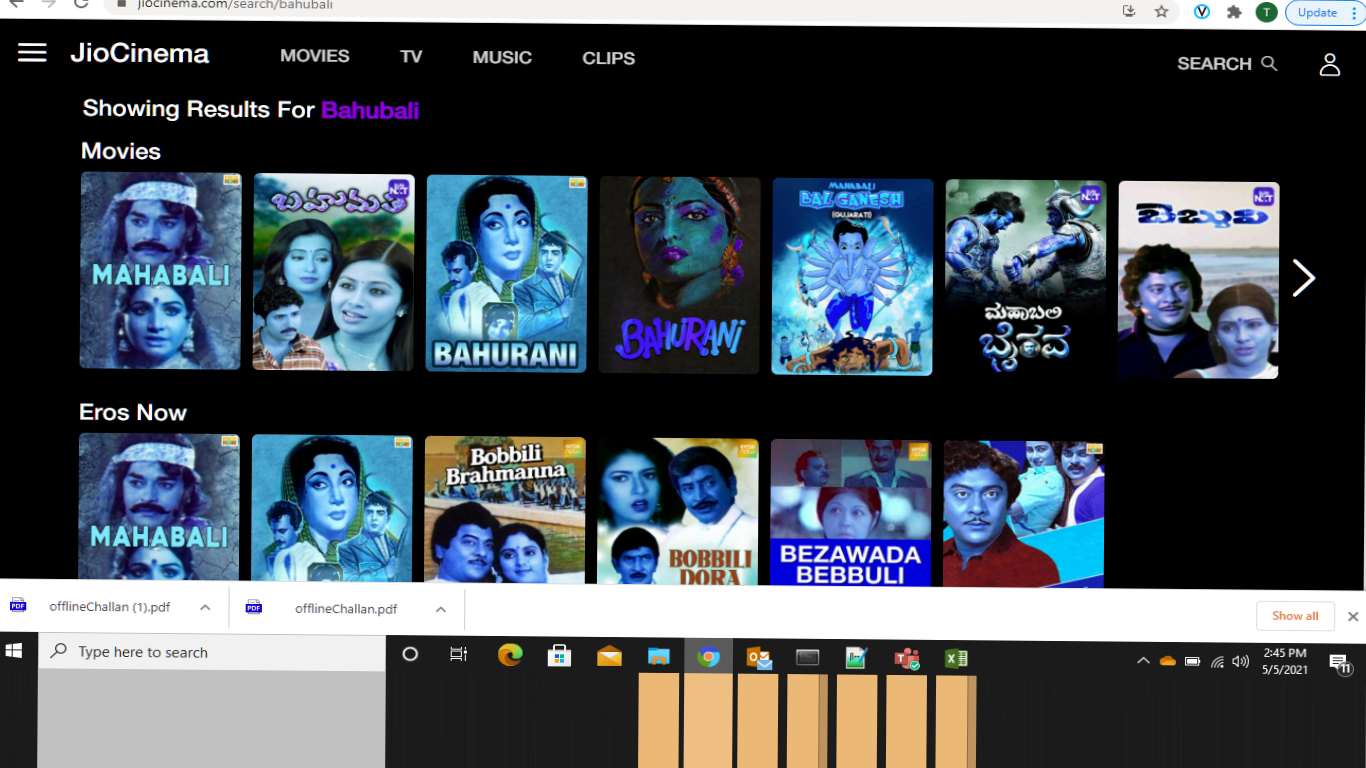profileicon: (1310, 48, 1347, 86)
resultsfound: (84, 90, 428, 131)
searchicon: (1155, 43, 1286, 79)
